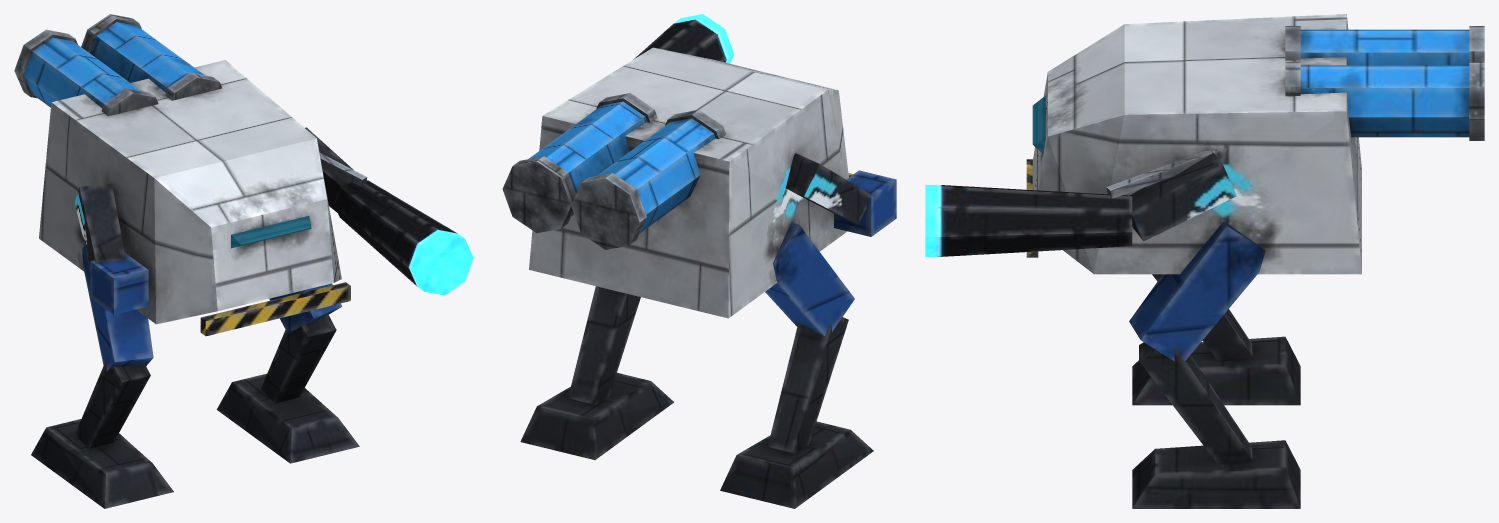
File: u_pyro1_w.glb
3 renders of one model, left to right at view 1: azimuth 30°, elevation 25°; view 2: azimuth 150°, elevation 25°; view 3: azimuth 270°, elevation 25°, orthographic. The views are drawn at different scales.
Parts seen in each view (by area): view 1: u_pyro1_w; view 2: u_pyro1_w; view 3: u_pyro1_w.
Part boxes in pixels (x1,y1,x2,y2): u_pyro1_w: (14,14,473,508); u_pyro1_w: (502,14,896,508); u_pyro1_w: (925,14,1484,508).
Bounding box in the file's own units: 1.03 × 1.19 × 1.53.
Materials: 1 (1 with a texture image).
